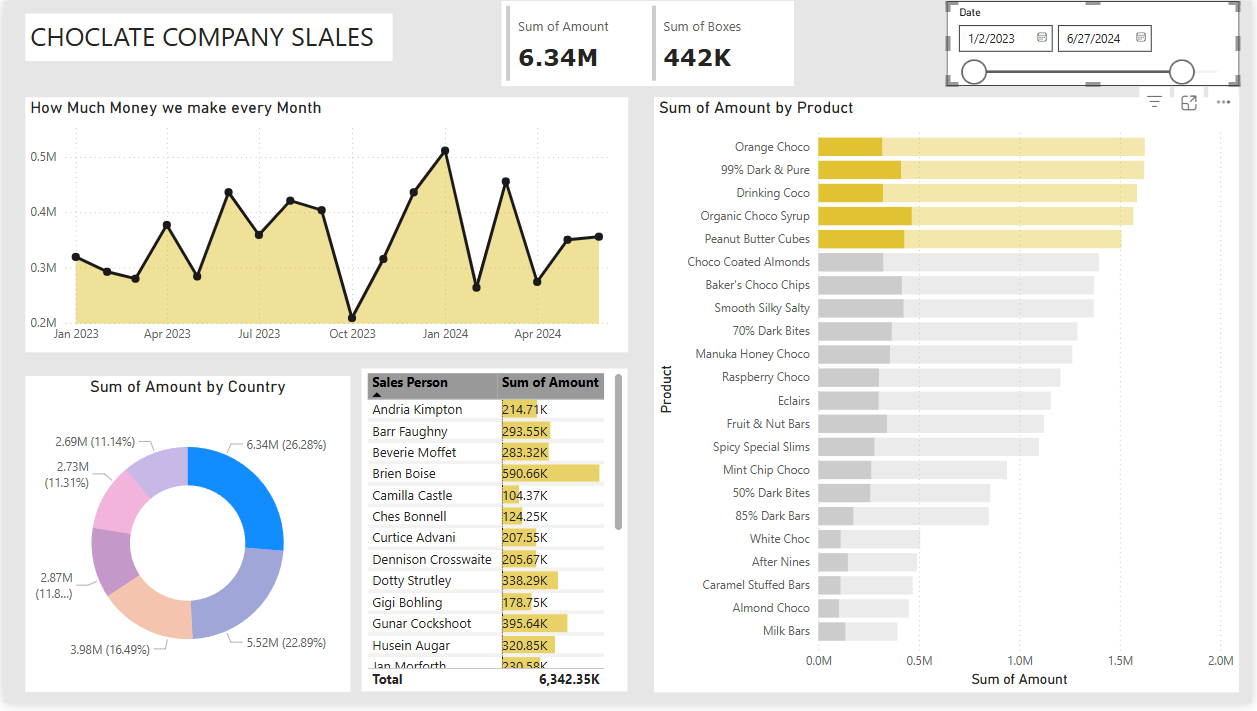

This screenshot's page, from the dashboard's own definition file:
{"tool":"powerbi","page":{"name":"Page 2","canvas":[1280,720],"ordinal":1},"visuals":[{"type":"lineChart","title":"How Much Money we make every Month","fields":{"Category":["data.Date.Variation.Date Hierarchy.Year","data.Date.Variation.Date Hierarchy.Quarter","data.Date.Variation.Date Hierarchy.Month","data.Date.Variation.Date Hierarchy.Day"],"Y":["data.Amount"]},"box":[21.4,98.6,618.6,261.4],"z":0},{"type":"donutChart","fields":{"Y":["data.Amount"],"Category":["data.Country"]},"box":[22,384.2,333.4,323.8],"z":1000},{"type":"tableEx","fields":{"Values":["data.Sales Person","data.Amount"]},"box":[367.1,377.1,272.9,331.4],"z":2000},{"type":"barChart","fields":{"Category":["data.Product"],"Y":["data.Amount"]},"box":[667.1,98.6,600,610],"z":3000},{"type":"cardVisual","fields":{"Data":["data.Amount","data.Boxes"]},"box":[510,0,300,87.1],"z":4000},{"type":"slicer","fields":{"Values":["data.Date"]},"box":[967.1,0,300,87.1],"z":5000},{"type":"textbox","box":[21.4,12.9,377.1,48.6],"z":6000}]}

Visuals, with their boxes in screenshot pixels (x1, y1, x2, y2), scaled from the page's 1280x720 canvas onto the 1257x711 screenshot:
"How Much Money we make every Month" lineChart: <region>21, 97, 628, 356</region>
donutChart - data.Amount x data.Country: <region>22, 379, 349, 699</region>
tableEx - data.Sales Person x data.Amount: <region>361, 372, 628, 700</region>
barChart - data.Product x data.Amount: <region>655, 97, 1244, 700</region>
cardVisual - data.Amount x data.Boxes: <region>501, 0, 795, 86</region>
slicer - data.Date: <region>950, 0, 1244, 86</region>
textbox: <region>21, 13, 391, 61</region>
